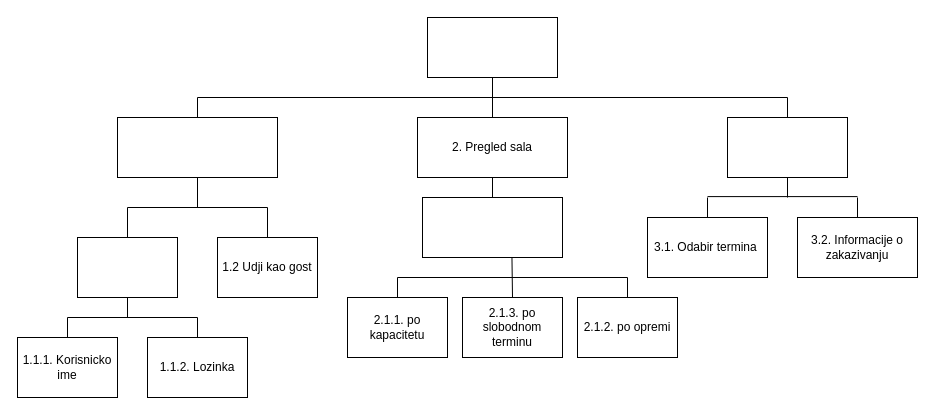
This 935x415 diagram has some shape labels left out. Here are the shapes that lost their labels. From the top down, the centre of each, then its label:
At [492,47]: "Biblioteka".
At [197,147]: "1. Otvaranje aplikacije".
At [787,147]: "3. Odabir sale".
At [492,227]: "2.1. Filtriranje sala".
At [127,267]: "1.1. Uloguj se".
